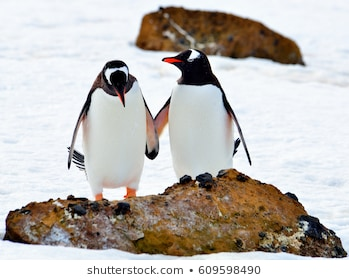penguin: (150, 37, 265, 191), (54, 49, 162, 212)
